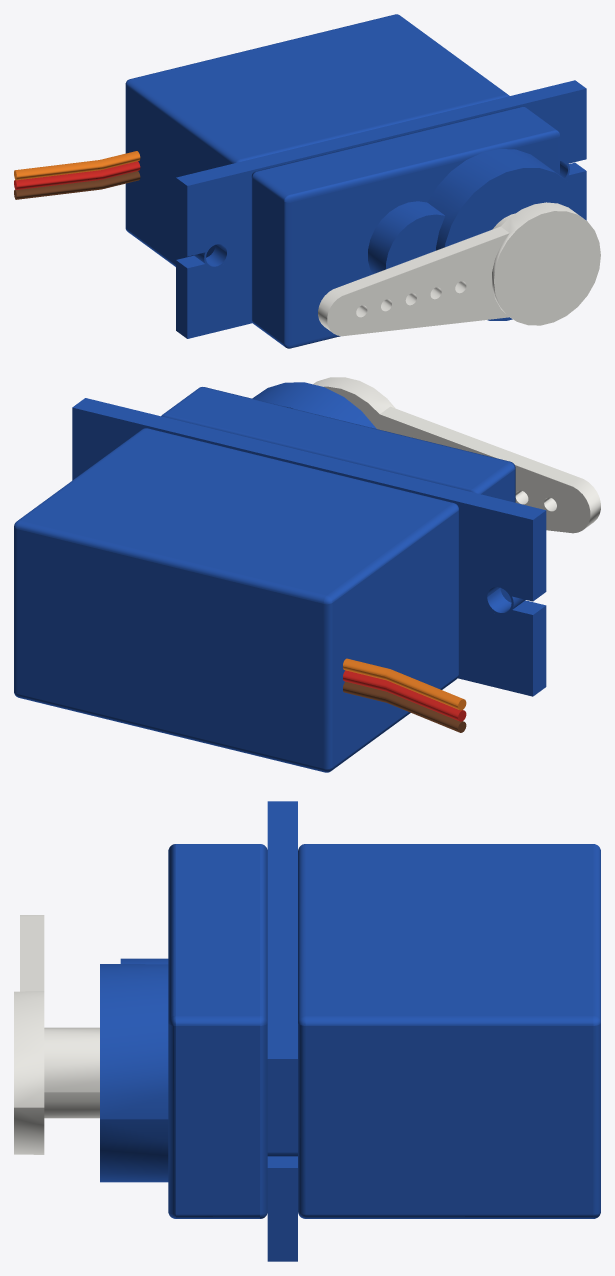
Rendered from servo-sg90-eckstein.glb.
3 views of the same model, one above another, from view 1: azimuth 30°, elevation 25°; view 2: azimuth 150°, elevation 25°; view 3: azimuth 270°, elevation 25° (orthographic). The views are drawn at different scales.
Visible parts, largest first — view 1: body, body_top, horn, tabs, gear_tower, cable_3, cable_1, cable_2, mount_hole_1; view 2: body, tabs, body_top, horn, gear_tower, cable_3, cable_1, cable_2, mount_hole_1; view 3: body, body_top, gear_tower, tabs, horn, spline.
Part boxes in pixels (box(x1,y1,x2,y2)): body: box(125, 14, 509, 266); body_top: box(251, 106, 559, 348); horn: box(318, 202, 600, 336); tabs: box(176, 80, 586, 338); gear_tower: box(368, 149, 585, 320); cable_3: box(14, 151, 140, 180); cable_1: box(14, 171, 140, 199); cable_2: box(14, 161, 140, 189); mount_hole_1: box(194, 242, 228, 268); body: box(14, 428, 458, 772); tabs: box(72, 398, 546, 696); body_top: box(161, 387, 515, 602); horn: box(313, 377, 600, 533); gear_tower: box(252, 382, 376, 428); cable_3: box(343, 658, 466, 710); cable_1: box(343, 681, 466, 732); cable_2: box(343, 670, 466, 721); mount_hole_1: box(485, 585, 525, 615); body: box(298, 844, 600, 1218); body_top: box(168, 844, 267, 1218); gear_tower: box(100, 958, 168, 1182); tabs: box(267, 801, 297, 1261); horn: box(14, 915, 44, 1154); spline: box(44, 1027, 99, 1118).
Bounding box in the file's own units: 36.29 × 11.85 × 31.
